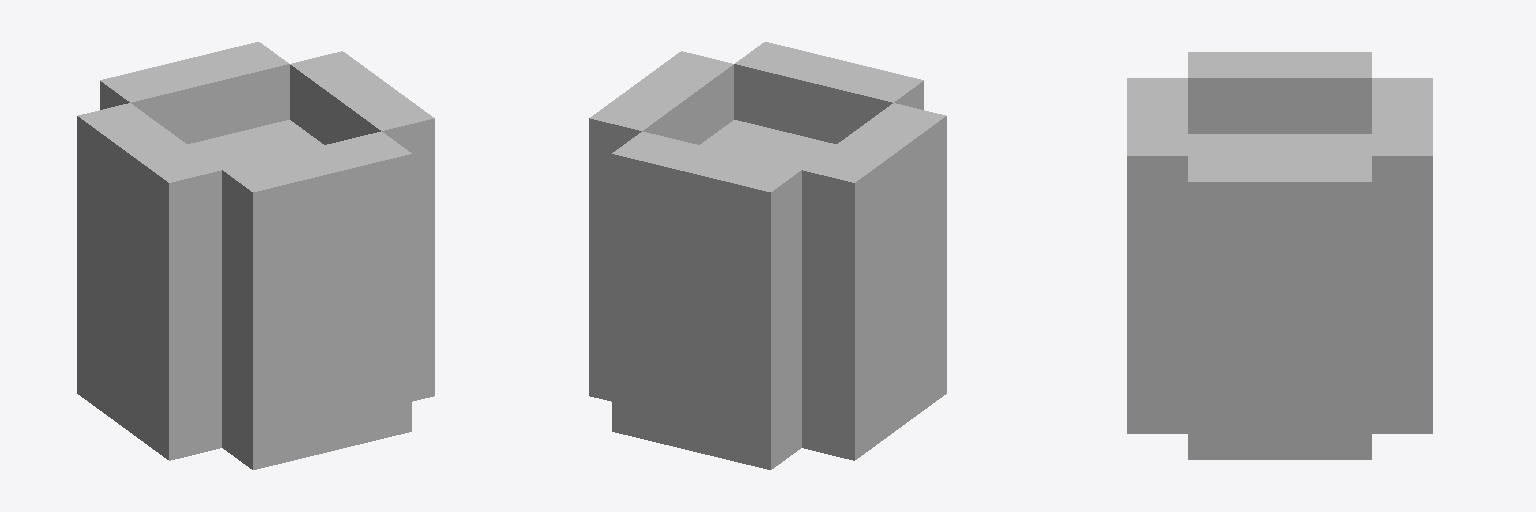
The model's file is obj-bucket.obj.
3 views of the same model, side by side, from view 1: azimuth 30°, elevation 25°; view 2: azimuth 150°, elevation 25°; view 3: azimuth 270°, elevation 25° (orthographic).
Parts seen in each view (by area): view 1: bucket; view 2: bucket; view 3: bucket.
Part boxes in pixels (bbox=[...]): bucket: bbox=[77, 42, 434, 469]; bucket: bbox=[589, 42, 946, 469]; bucket: bbox=[1127, 52, 1432, 459].
Bounding box in the file's own units: 0.5 × 0.5 × 0.5.